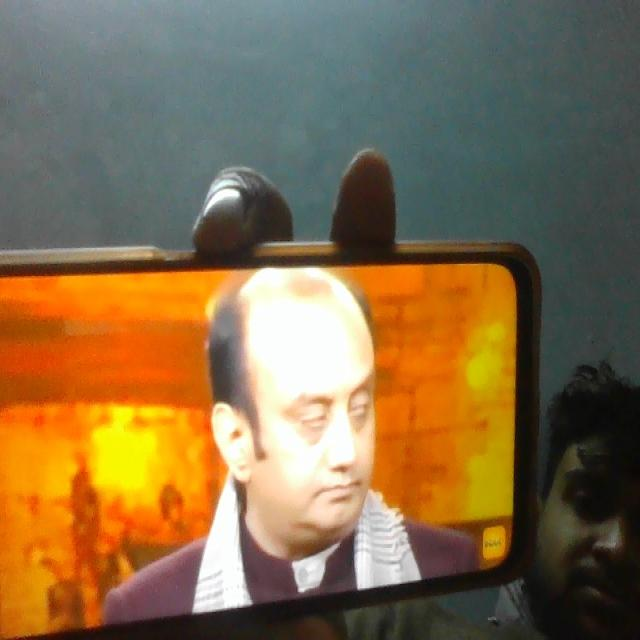fake: (237, 265, 397, 568)
